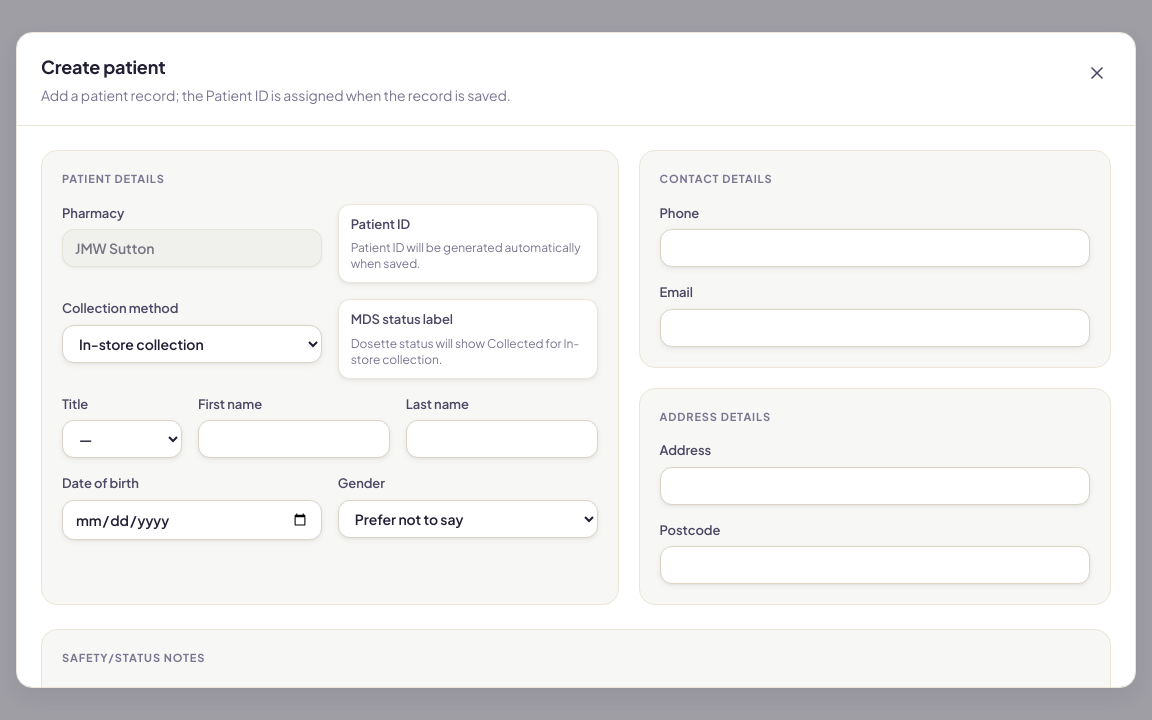
PatientFormModal › blocks submit when required fields are missing
This screenshot has width=1152, height=720.
In the field labelled "First name": (294, 439) x1=198 y1=420 x2=390 y2=458, type "Clara"
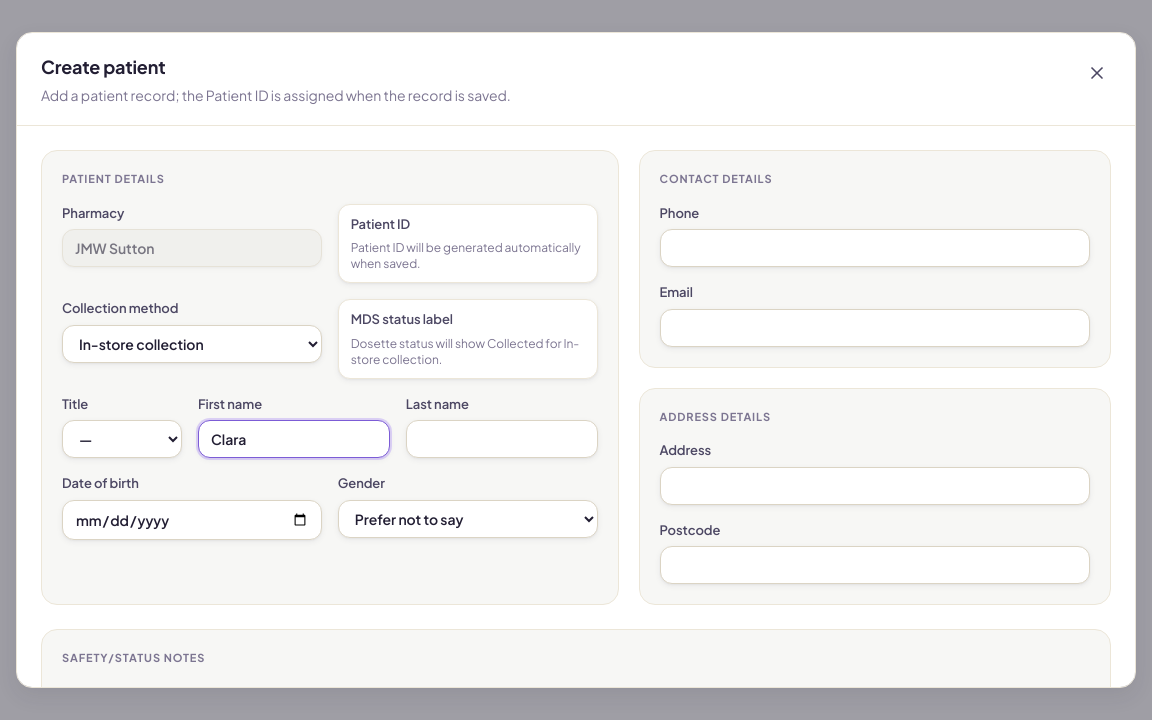
In the date field labelled "Date of birth": (192, 520) x1=62 y1=500 x2=322 y2=540, type "1990-02-03"
(page scrolled)
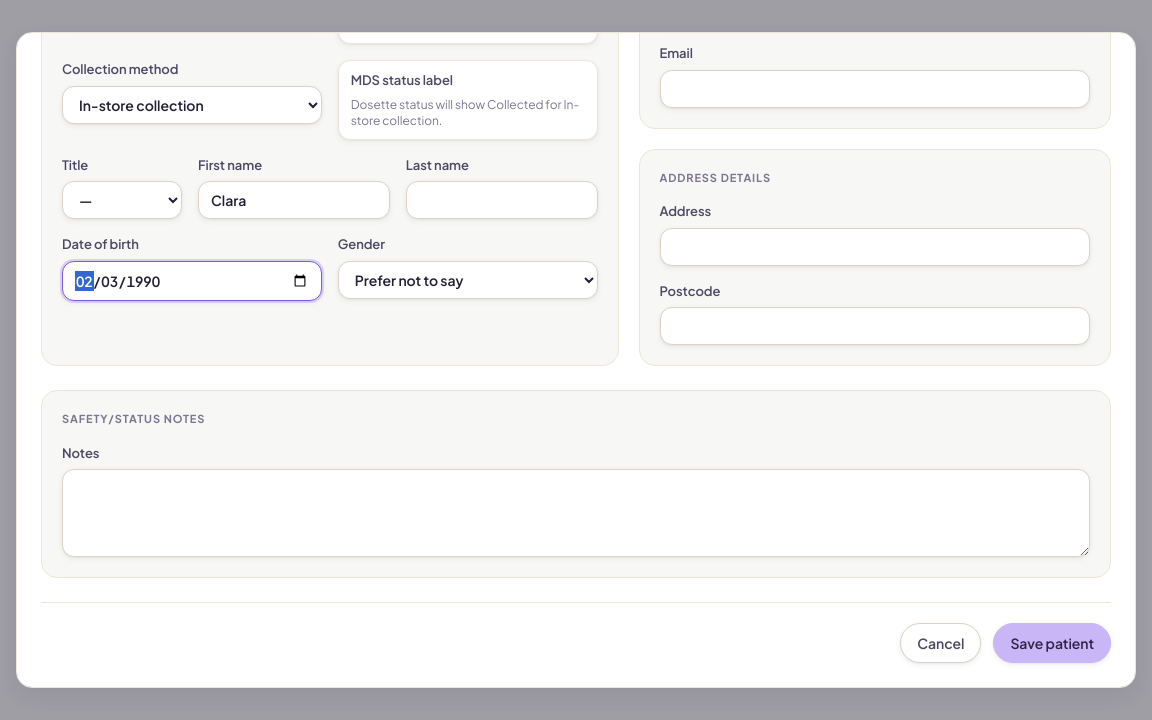
Click the button "Save patient": click(1052, 643) x1=994 y1=623 x2=1111 y2=663
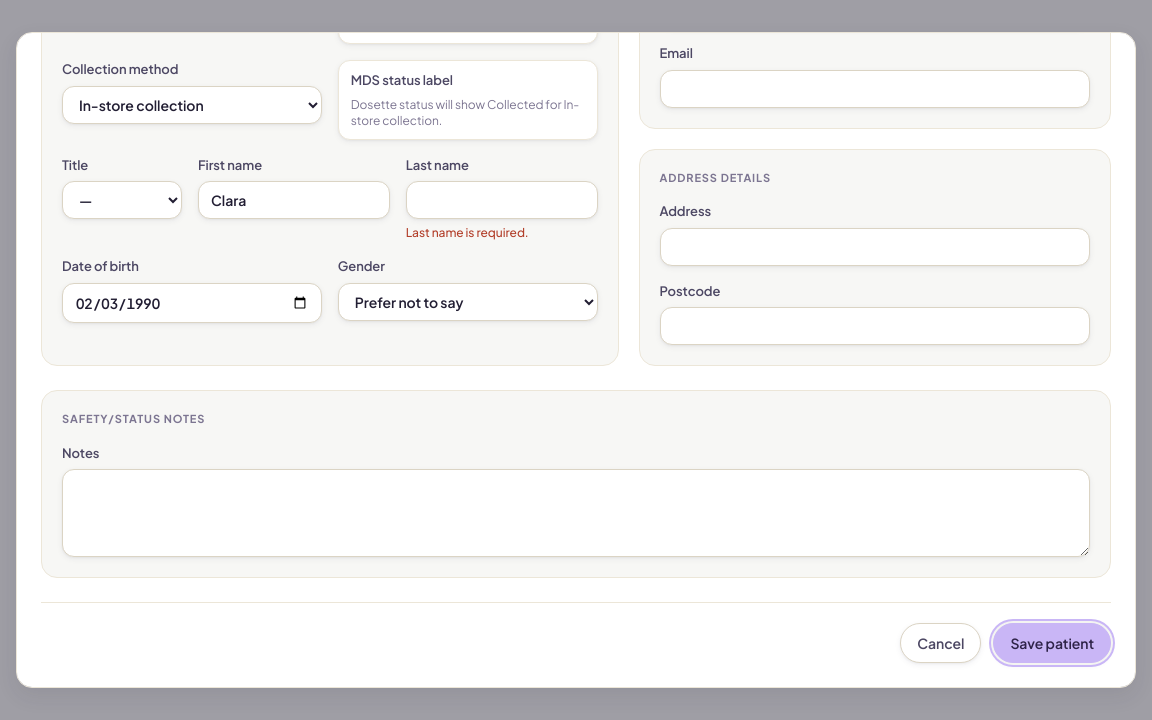
Expected: the list item "Last name is required." is shown, x1=406 y1=225 x2=529 y2=240
